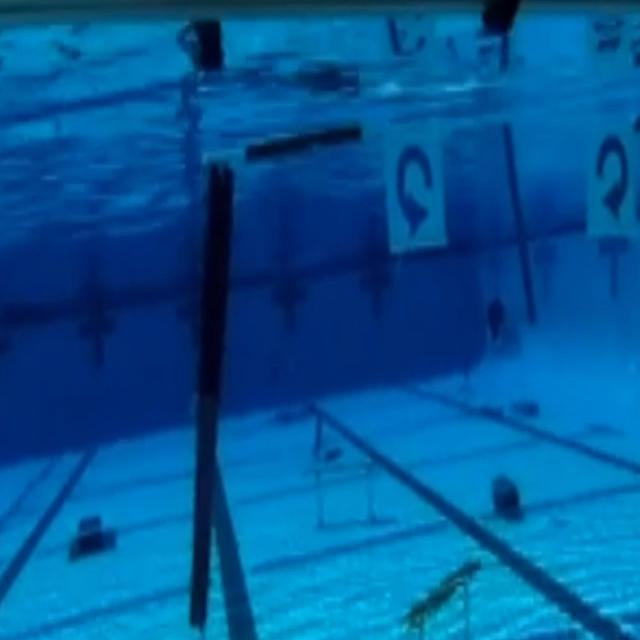Gate: (183, 75, 640, 637)
